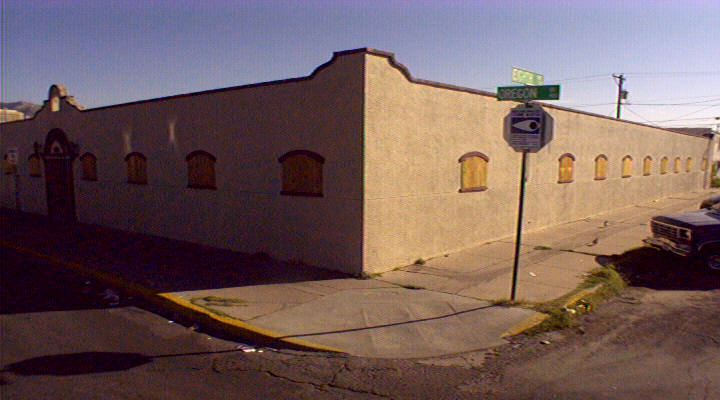Ramp: (237, 277, 561, 363)
